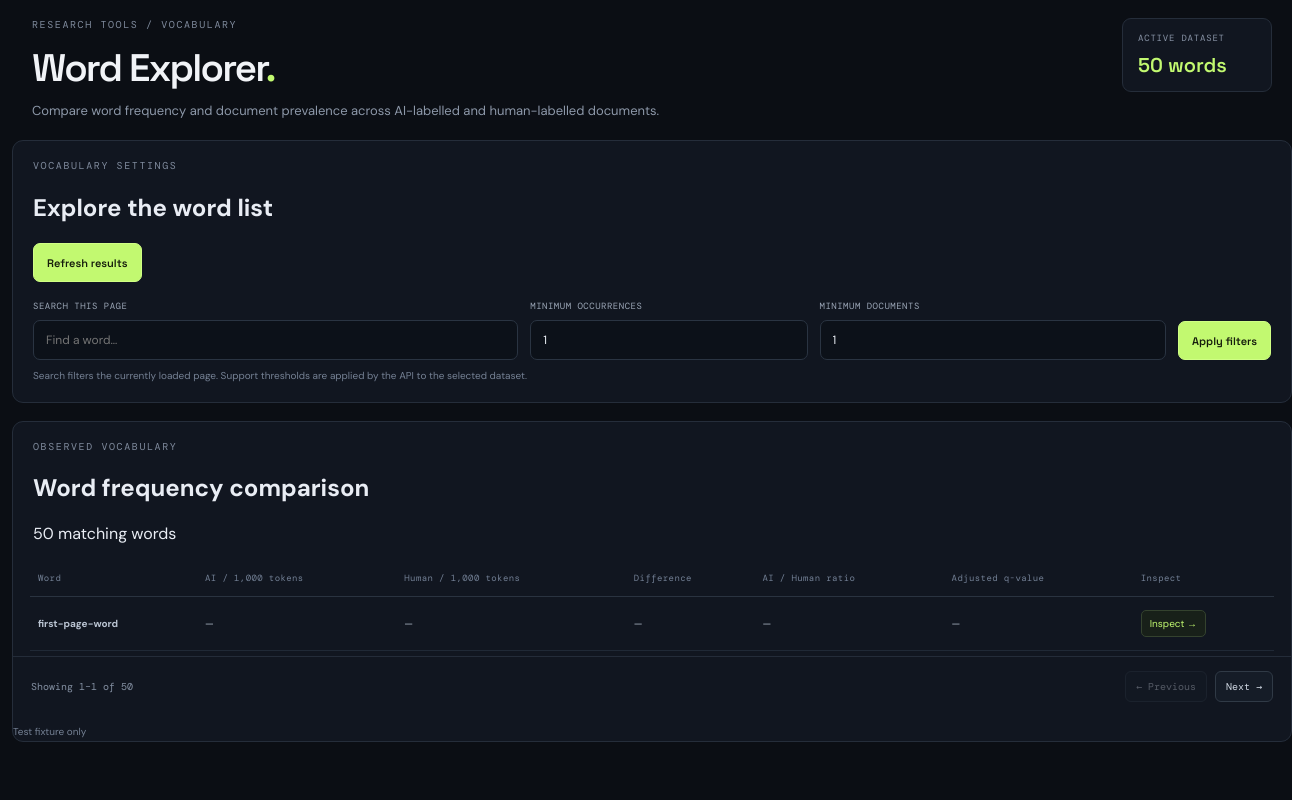
Test case: WordExplorer controls › requests the next page with the correct offset
Click the button "Next →". click: (1244, 687)
box: [1215,671,1273,702]
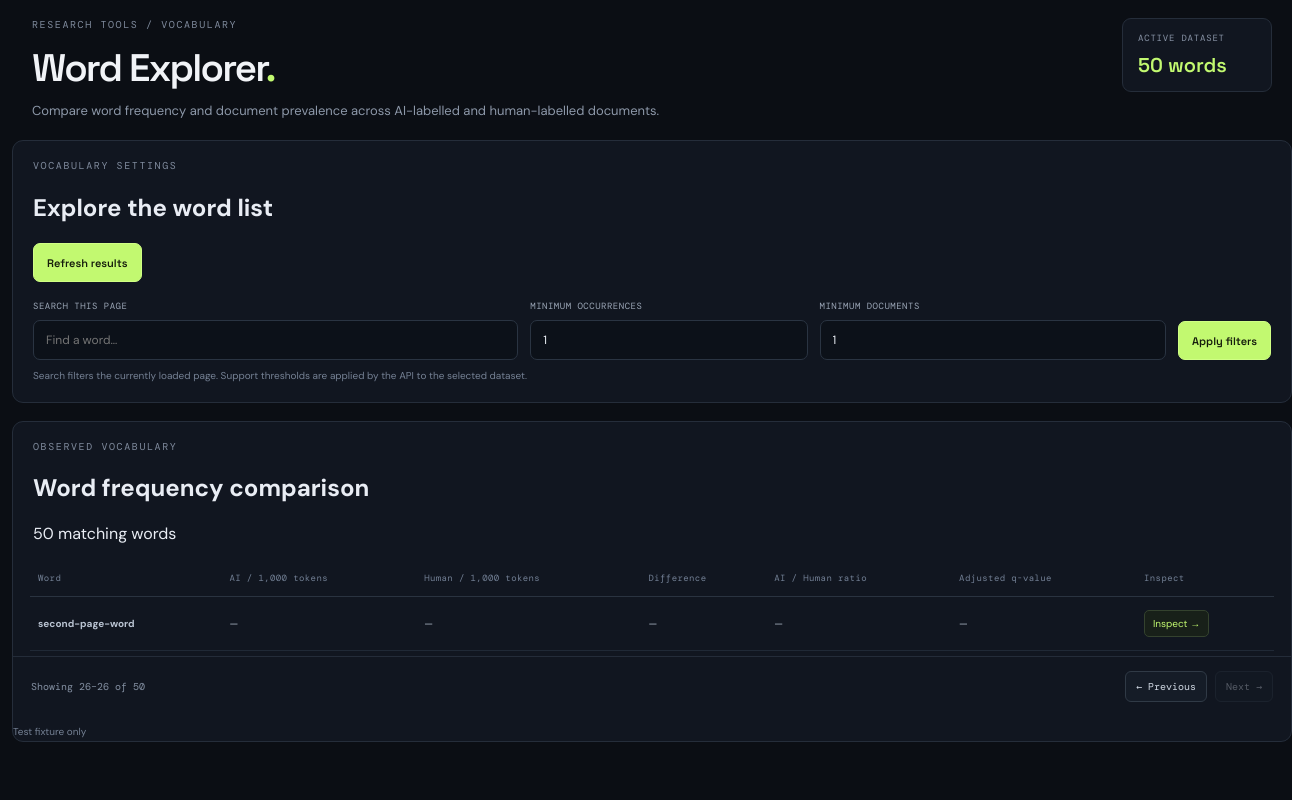
Expected: the text "second-page-word" is shown, [38,617,135,630]
